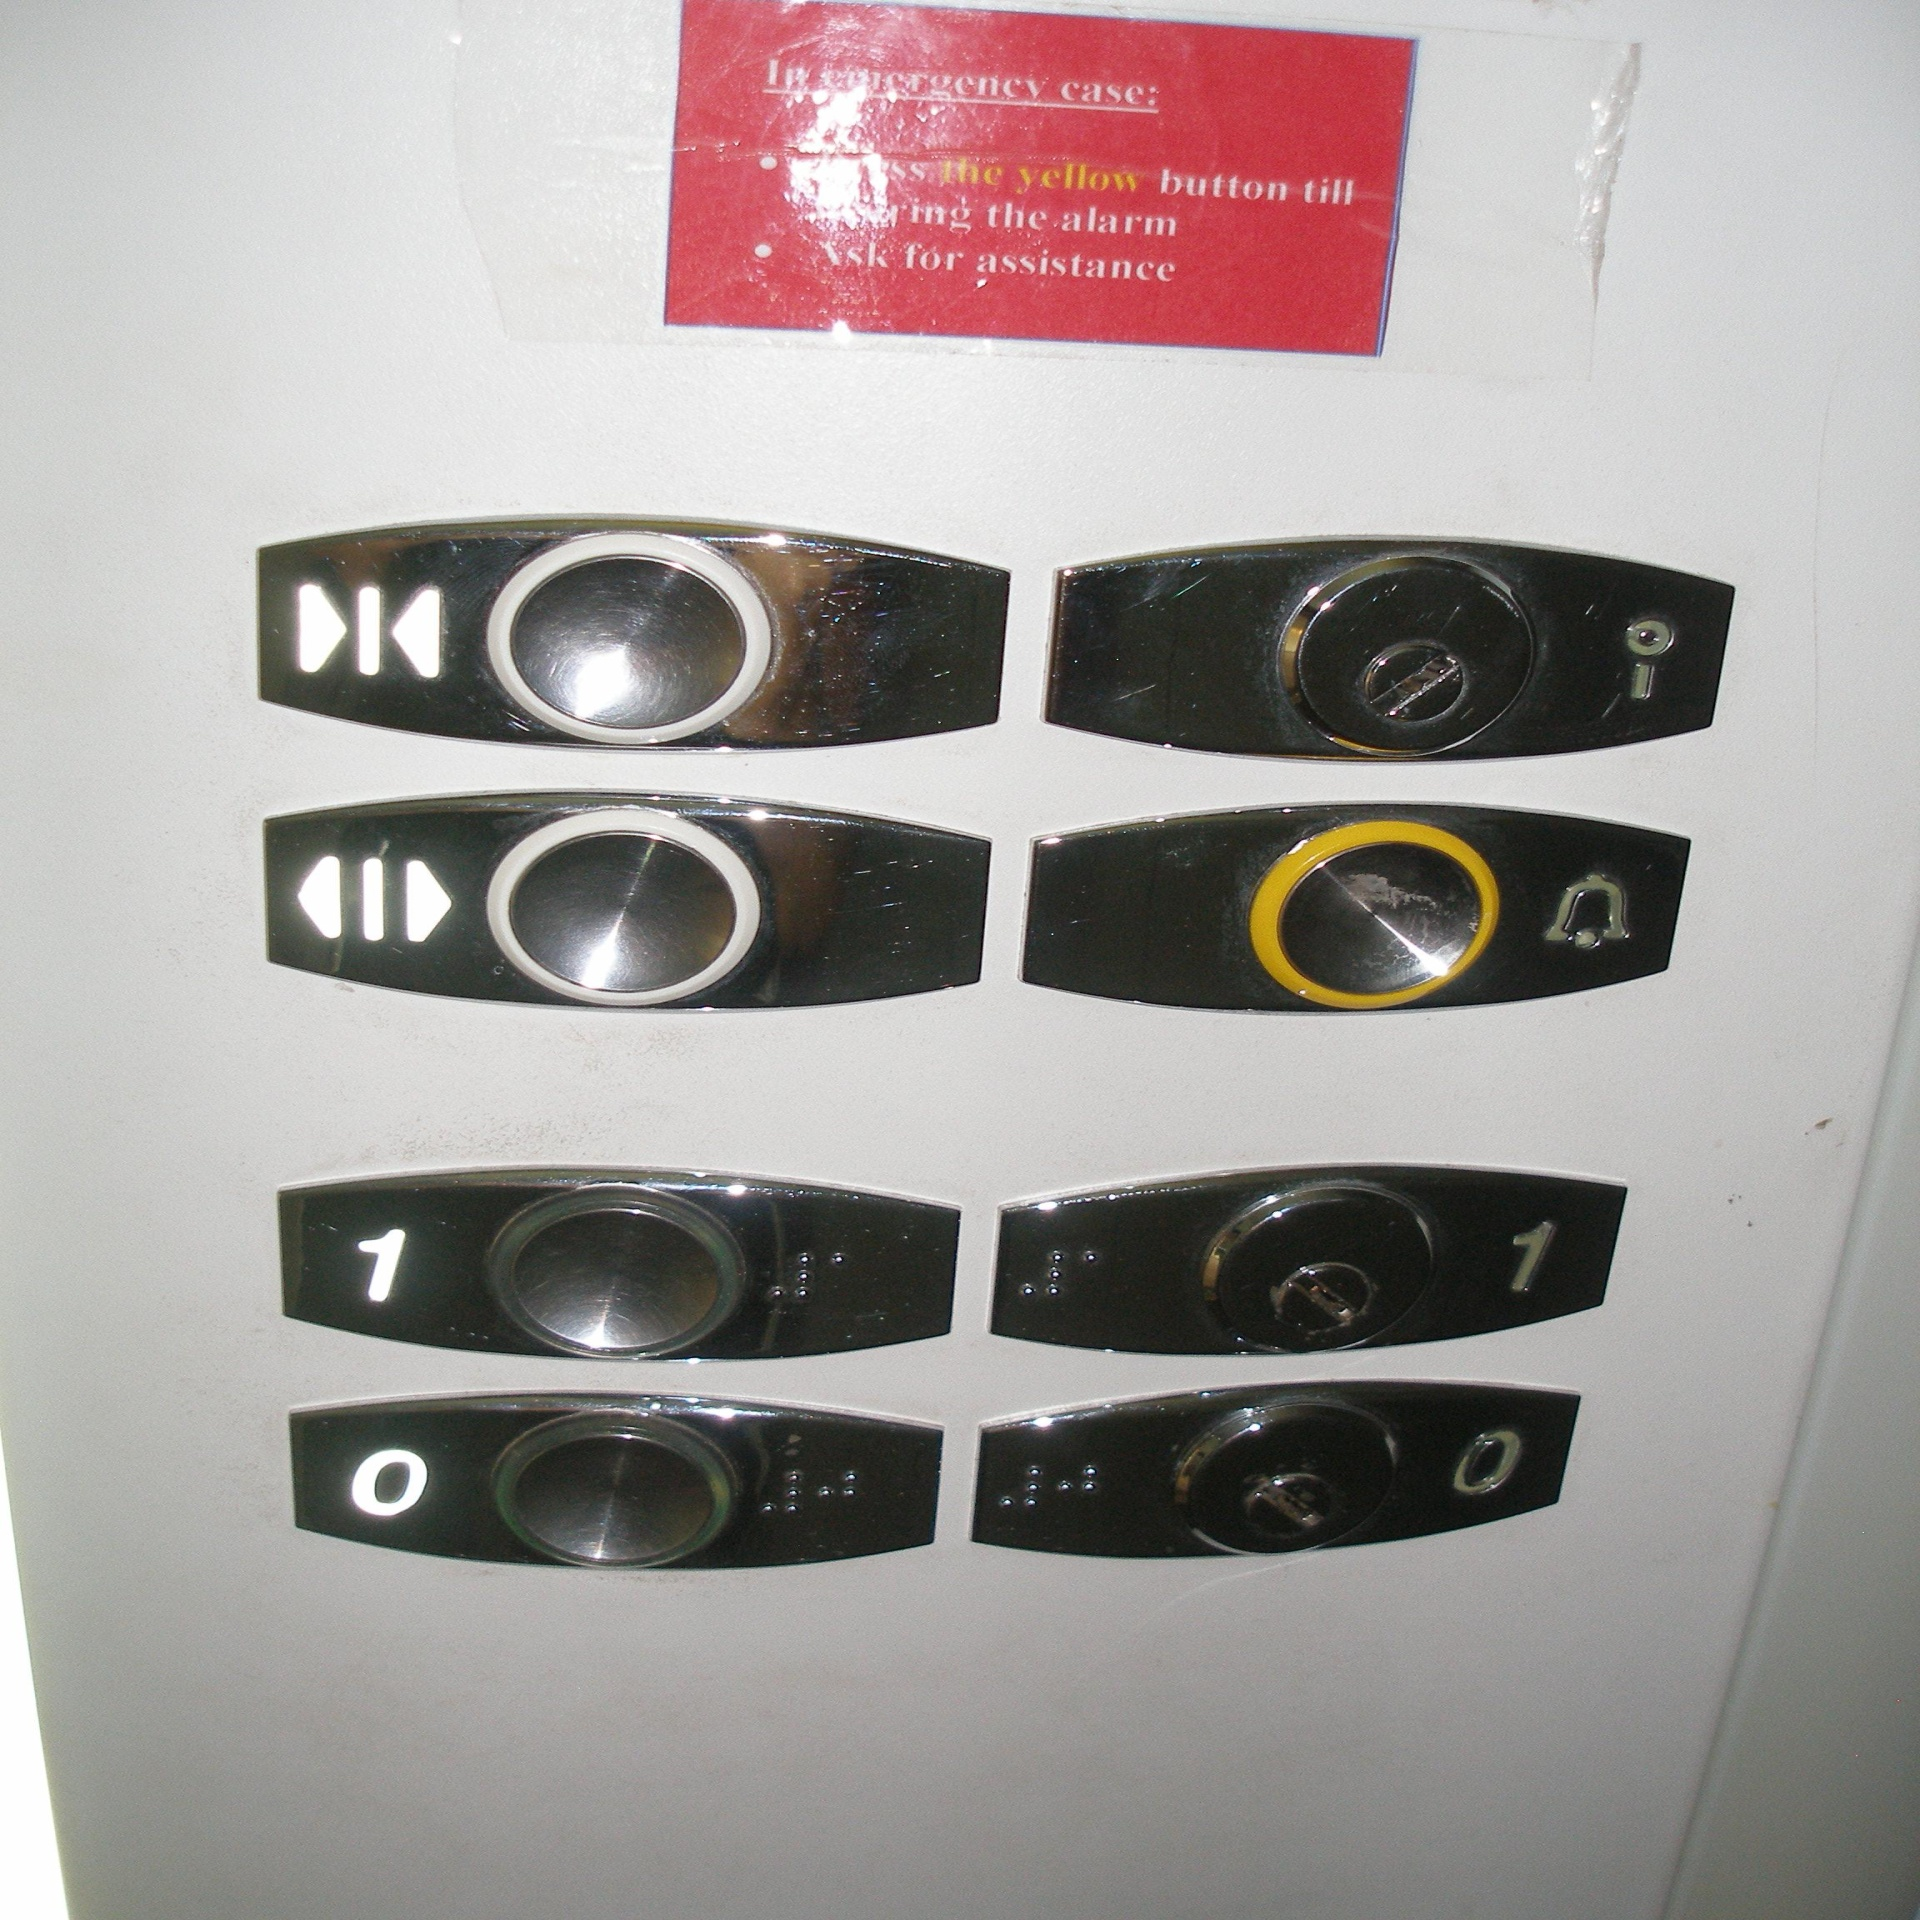0: (280, 1378, 964, 1575), (965, 1371, 1595, 1570)
1: (265, 1153, 979, 1370), (985, 1148, 1640, 1371)
alarm: (1016, 784, 1718, 1023)
close: (244, 506, 1018, 758), (239, 777, 1018, 1022)
key: (1037, 520, 1751, 775)
